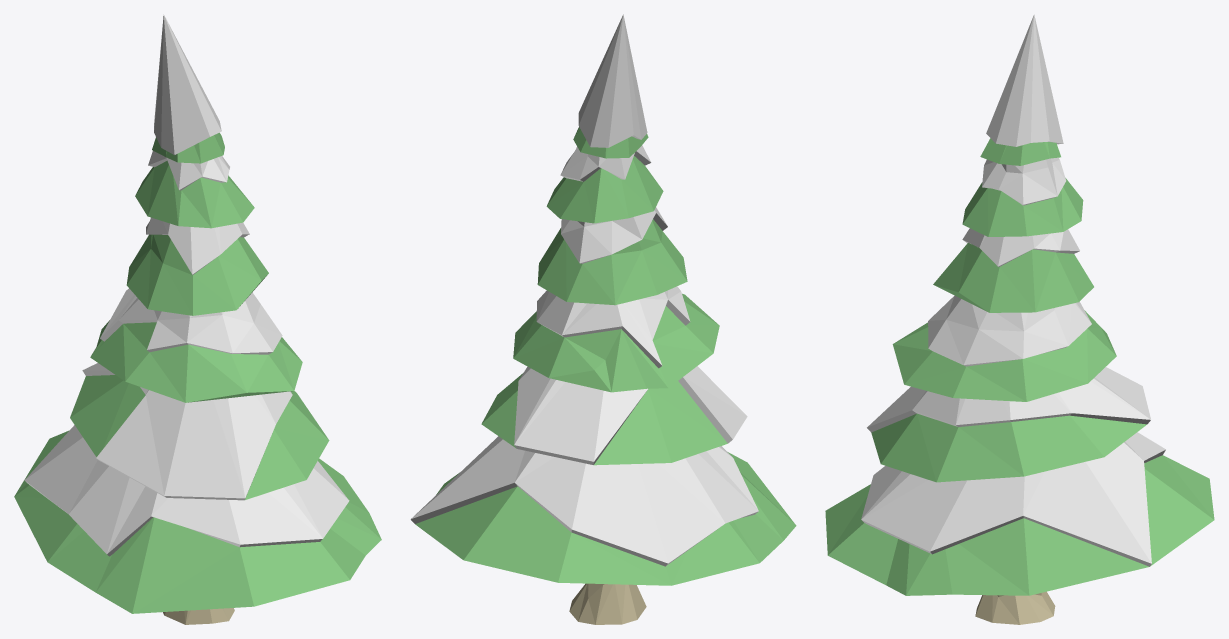
Rendered from LowPoly - FirTree A_snow.FBX.
3 views of the same model, side by side, from view 1: azimuth 30°, elevation 25°; view 2: azimuth 150°, elevation 25°; view 3: azimuth 270°, elevation 25° (orthographic). The views are drawn at different scales.
Visible parts, largest first — view 1: LowPolyFirTree_01; view 2: LowPolyFirTree_01; view 3: LowPolyFirTree_01.
Part boxes in pixels (x1,y1,x2,y2): LowPolyFirTree_01: [14, 14, 381, 624]; LowPolyFirTree_01: [410, 14, 796, 624]; LowPolyFirTree_01: [825, 14, 1214, 624].
Bounding box in the file's own units: 514 × 966 × 581.
